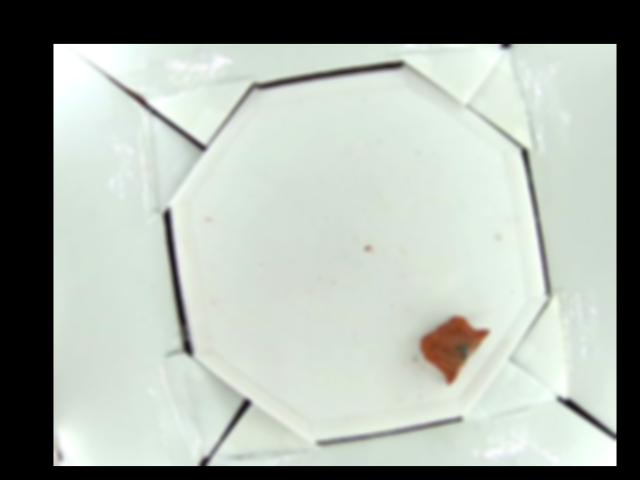Brisk: (421, 314, 488, 386)
